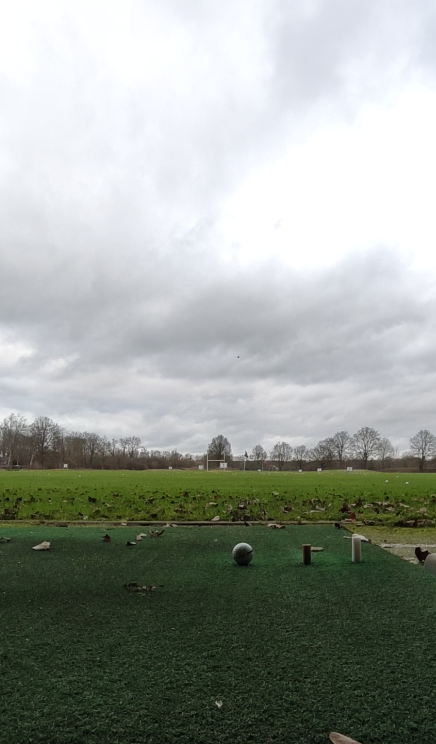golfball: (230, 542, 256, 566)
